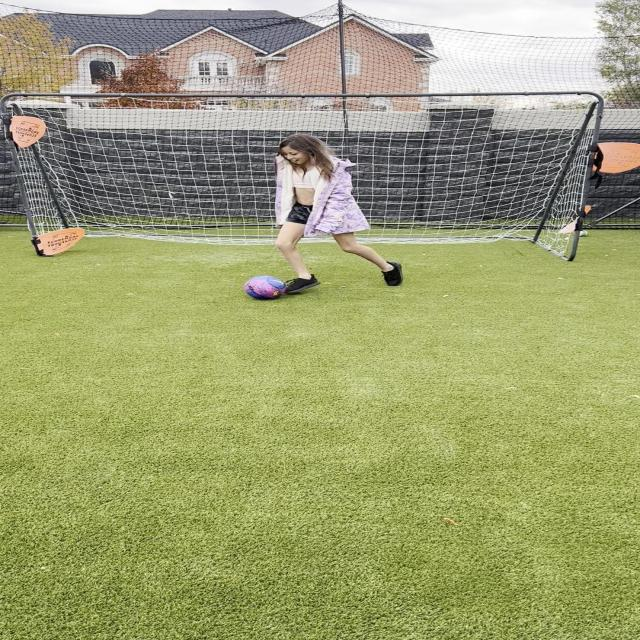Soccer Ball: (244, 276, 287, 300)
